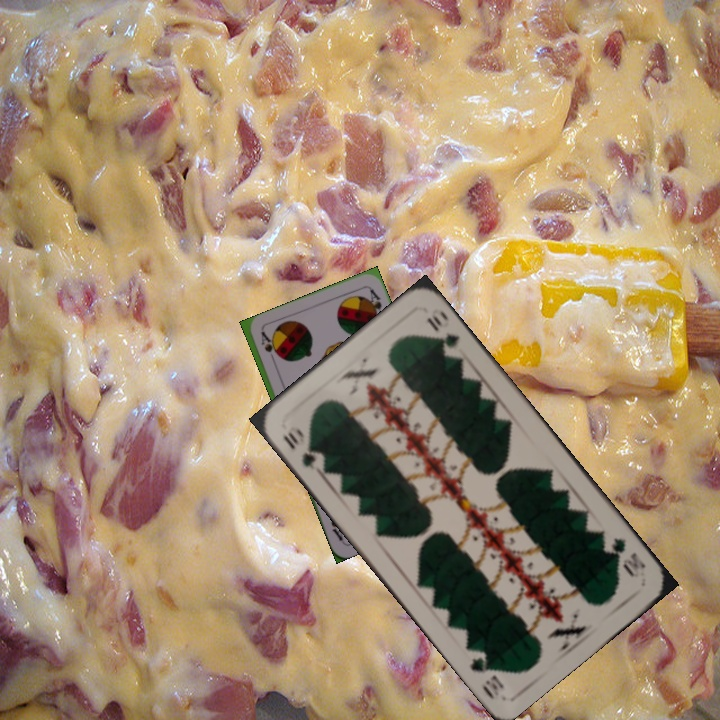G10: (278, 425, 321, 473), (607, 533, 649, 580)
SA: (257, 328, 279, 367)
